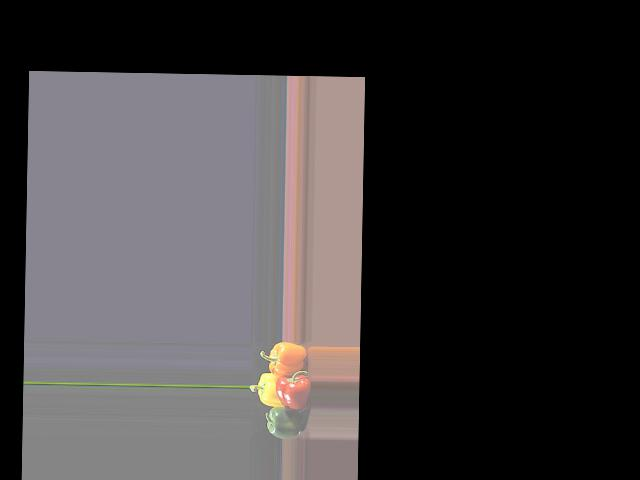bell_pepper: (264, 341, 312, 377)
